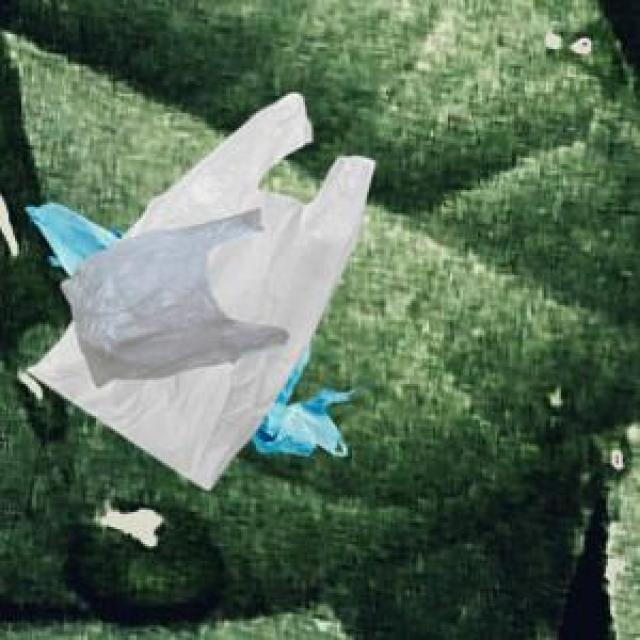plastic: (4, 102, 422, 532)
